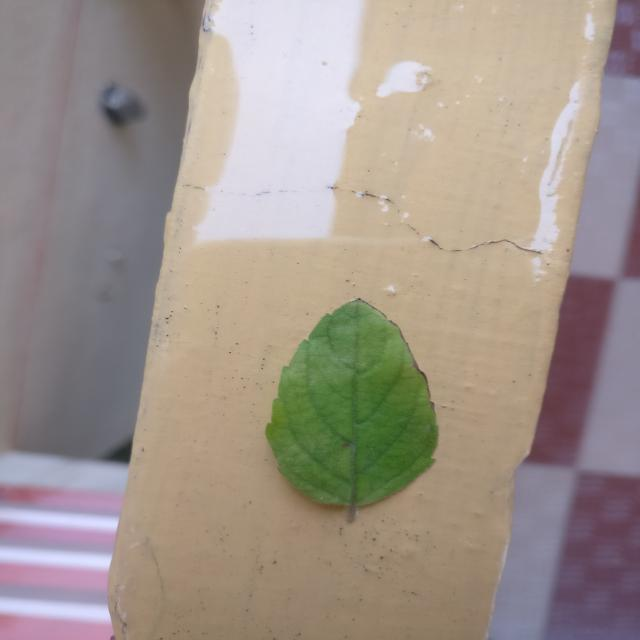tulsi: (267, 300, 438, 515)
